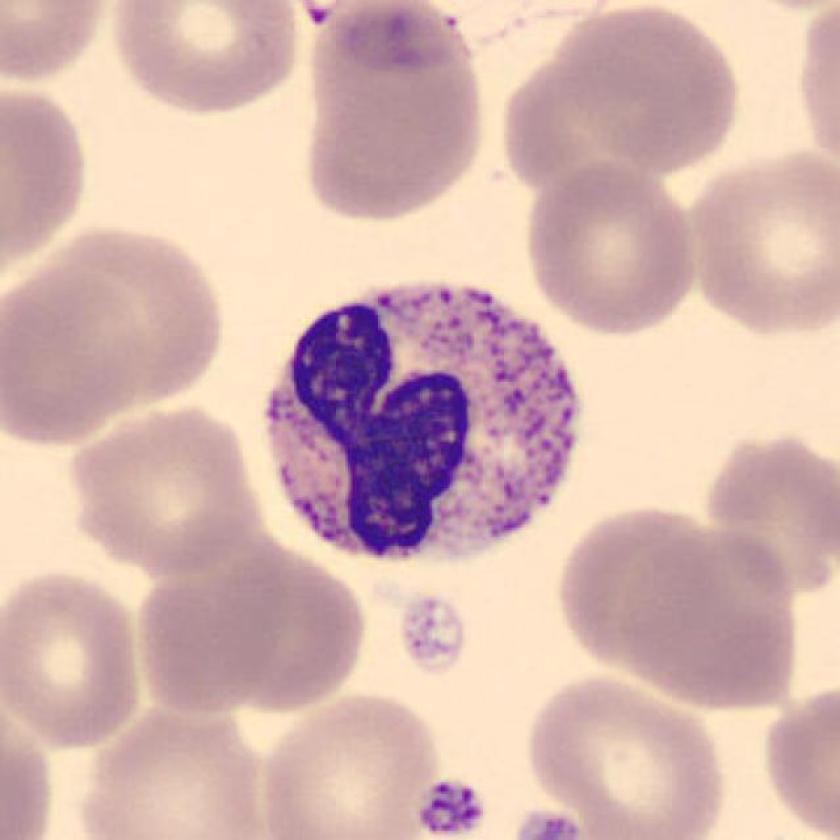neutrophil: (262, 285, 581, 563)
